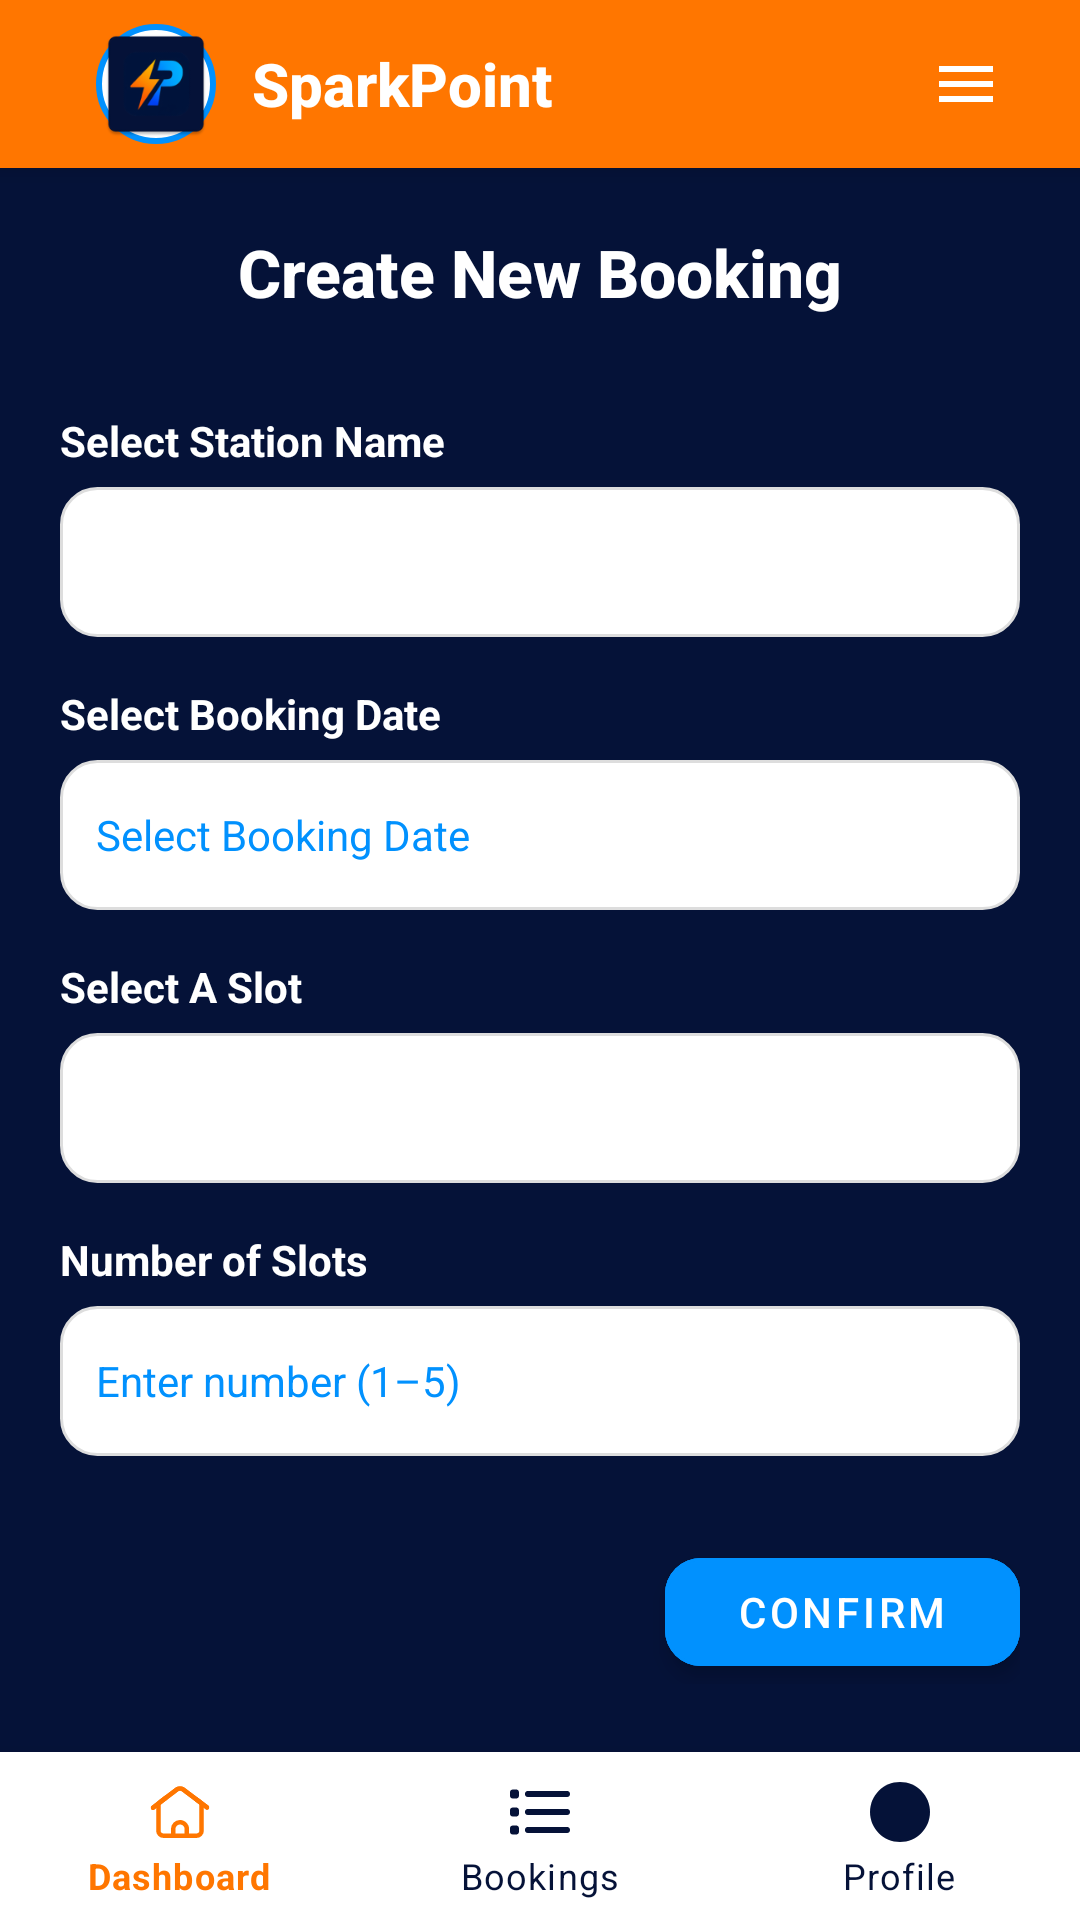

Icon bounding boxes for this 1080×1920 phone screenshot, format rect(x1, y1, x2, y2):
Menu: rect(939, 66, 993, 102)
